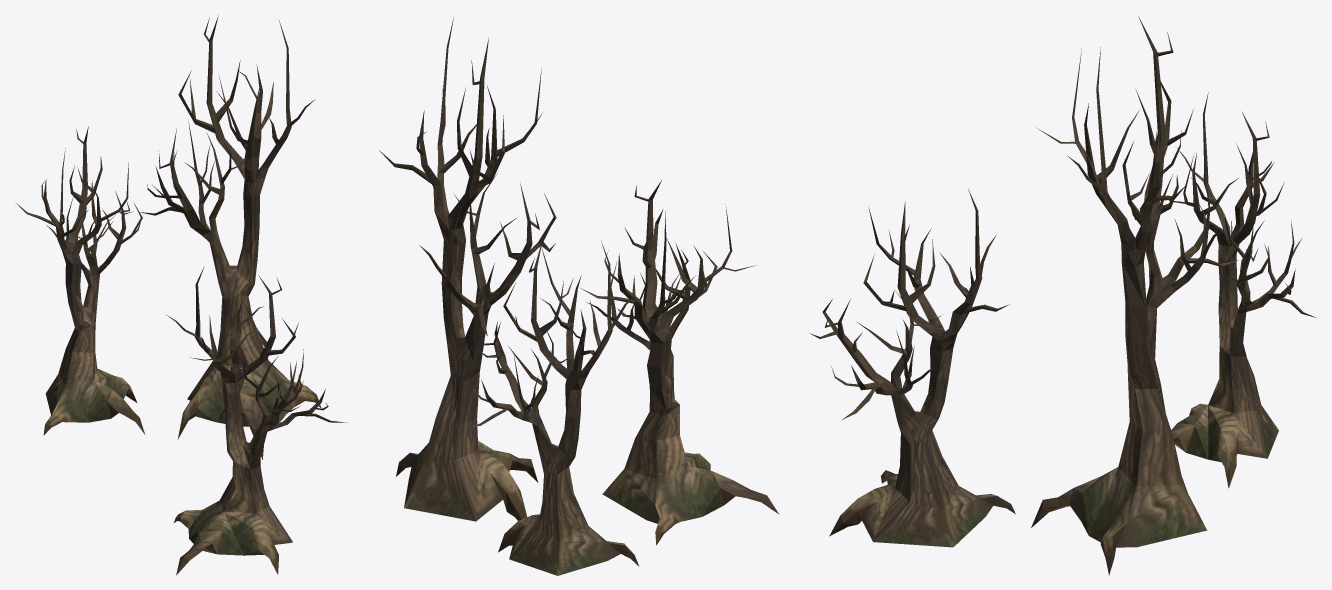
The model's file is plants_tall_tree_trunks13.fbx.
3 views of the same model, side by side, from view 1: azimuth 30°, elevation 25°; view 2: azimuth 150°, elevation 25°; view 3: azimuth 270°, elevation 25° (orthographic). The views are drawn at different scales.
Visible parts, largest first — view 1: obj0.150; view 2: obj0.150; view 3: obj0.150.
Boxes of the visible parts, x1,y1,x2,y2 form: obj0.150: (15,15,348,575); obj0.150: (379,17,779,575); obj0.150: (809,16,1315,575).
Size of the model in its own units: 6.91 by 12.29 by 10.1.
